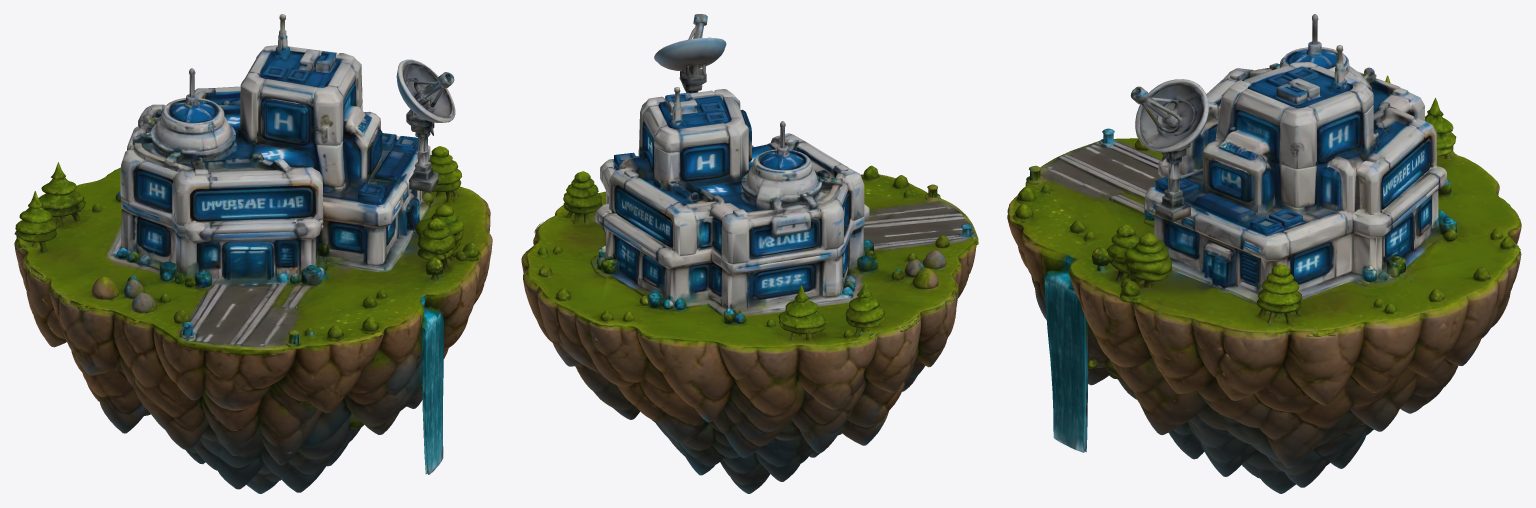
The model's file is floatingupgradelab.glb.
3 renders of one model, left to right at view 1: azimuth 30°, elevation 25°; view 2: azimuth 150°, elevation 25°; view 3: azimuth 270°, elevation 25°, orthographic. The views are drawn at different scales.
Visible parts, largest first — view 1: material; view 2: material; view 3: material.
Part boxes in pixels (<box>): material: <box>14,14,492,493</box>; material: <box>521,14,978,493</box>; material: <box>1007,14,1521,493</box>.
Bounding box in the file's own units: 0.9781 × 0.9866 × 0.971.
1 material, 1 textured.
